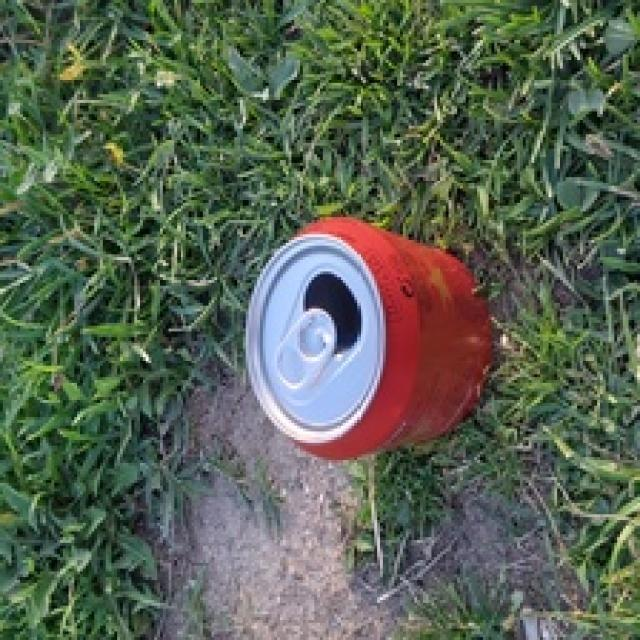recyclable: (242, 216, 494, 460)
